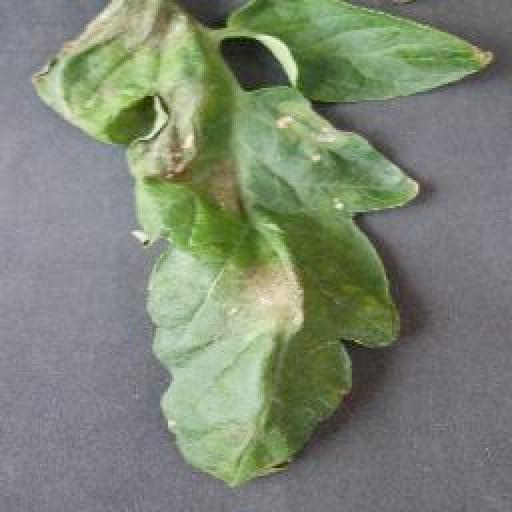disease_tomato: (27, 0, 493, 490)
